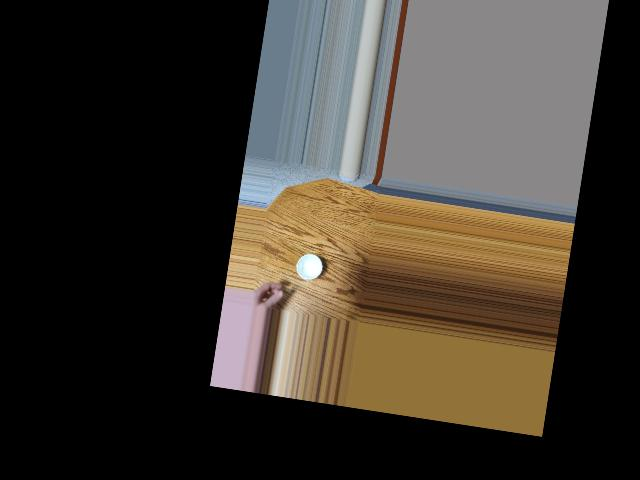cotage: (290, 249, 323, 287)
